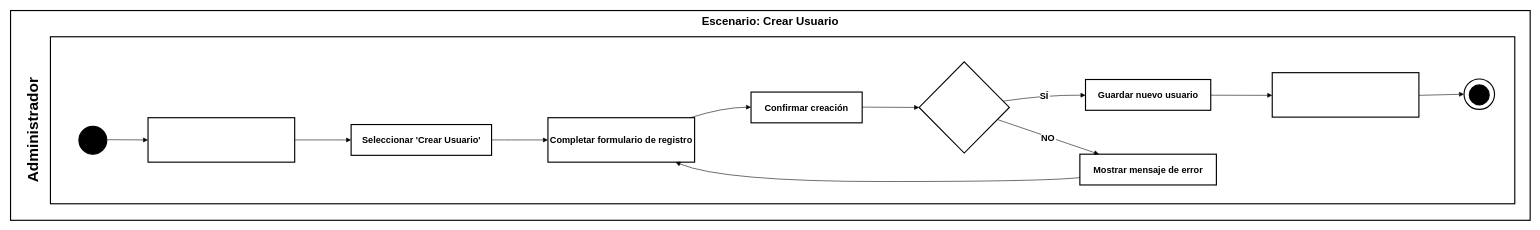
Image size: 1540x230. Some labels were removed from this diagram. Each missing label, with the centre of its shape:
Acceder a gestión de usuarios: (x=221, y=139)
Mostrar mensaje de confirmación: (x=1345, y=94)
¿Datos válidos?: (x=964, y=107)
